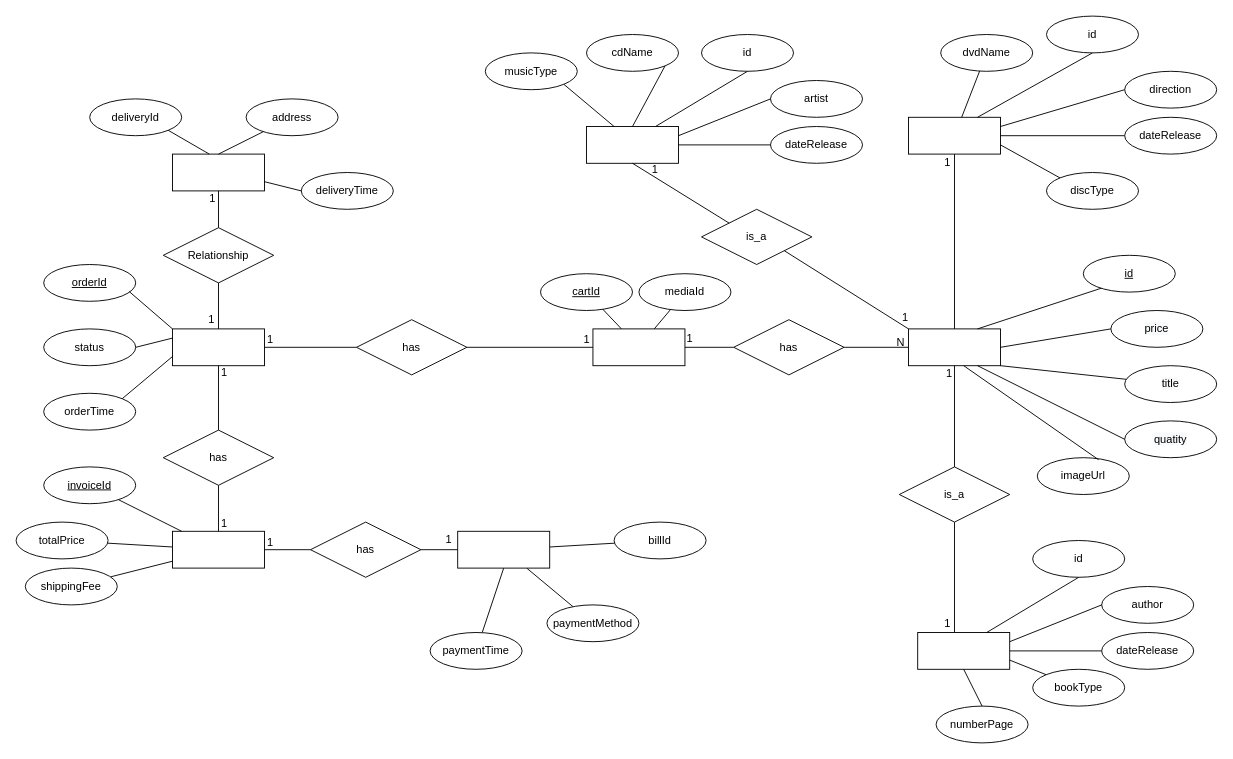
This 1233x759 diagram has some shape labels left out. Each missing label, with the centre of its shape:
Bill: point (503, 549)
Book: point (963, 650)
Cart: point (638, 347)
CD: point (632, 144)
DeliveryInfo: point (218, 172)
DVD: point (954, 135)
Invoice: point (218, 549)
Media: point (954, 347)
Order: point (218, 347)
